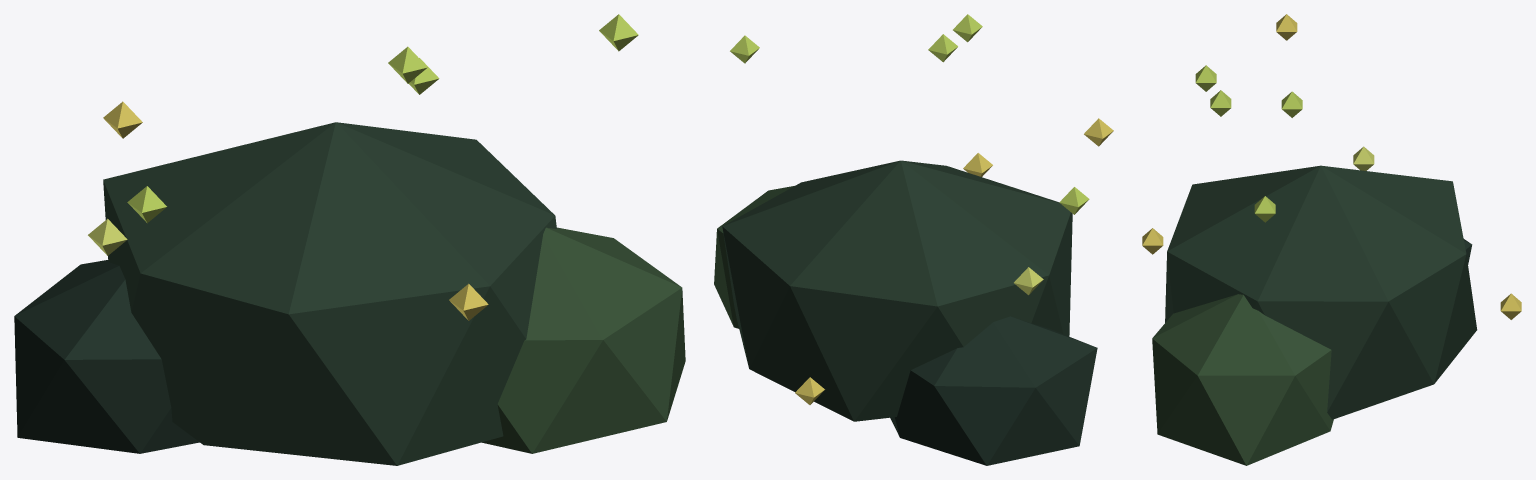
The model's file is firefly_bush.glb.
3 views of the same model, side by side, from view 1: azimuth 30°, elevation 25°; view 2: azimuth 150°, elevation 25°; view 3: azimuth 270°, elevation 25° (orthographic). The views are drawn at different scales.
Visible parts, largest first — view 1: firefly_bush, Flies_glow; view 2: firefly_bush, Flies_glow; view 3: firefly_bush, Flies_glow.
Boxes of the visible parts, x1,y1,x2,y2 form: firefly_bush: (14, 122, 685, 465); Flies_glow: (88, 14, 638, 320); firefly_bush: (714, 160, 1097, 465); Flies_glow: (730, 14, 1113, 404); firefly_bush: (1152, 165, 1477, 465); Flies_glow: (1142, 14, 1521, 319).
Bounding box in the file's own units: 0.9603 × 0.6656 × 0.7663.
